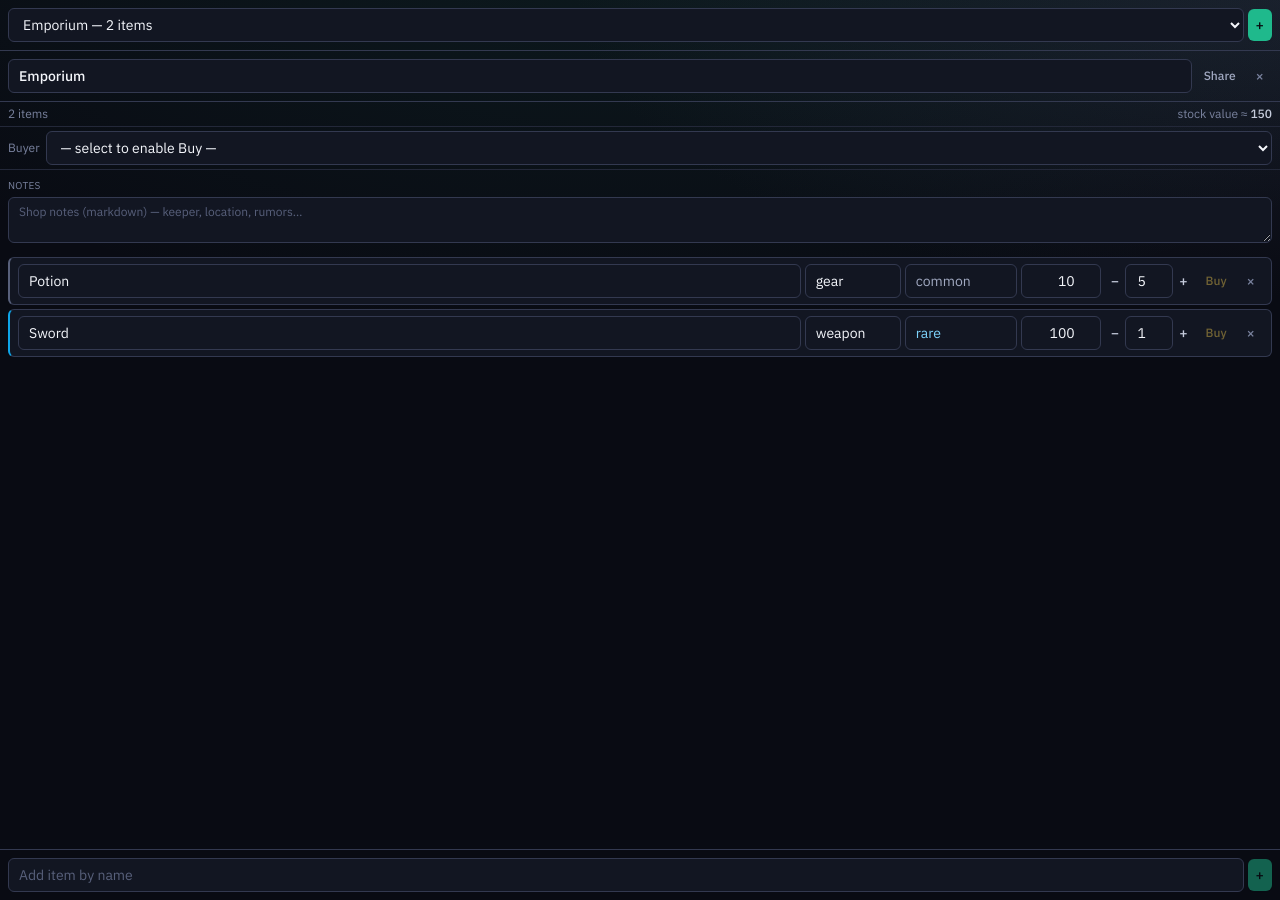
it: ShopWidget › enables Buy only for affordable, in-stock items once a buyer is chosen
# Comboboxes in order: [shop selector, buyer selector]. Pick the buyer.
Select "Aria (50g)" in the dropdown next to "Buyer" at (659, 148), box [46,131,1272,165]
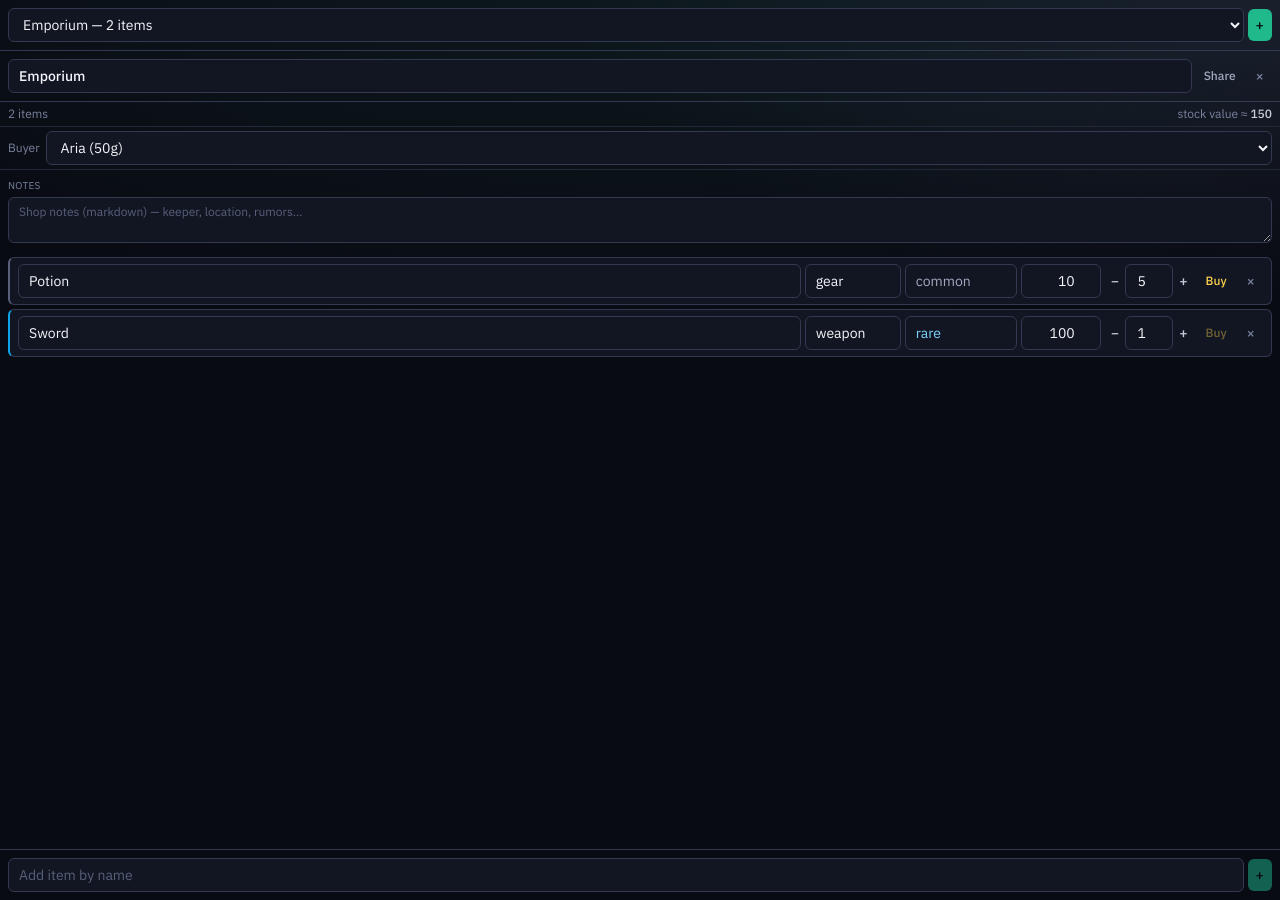
Expected: the 2nd button "Buy" is disabled, [1198,319,1234,347]
Expected: the 1st button "Buy" is enabled, [1198,267,1234,295]
